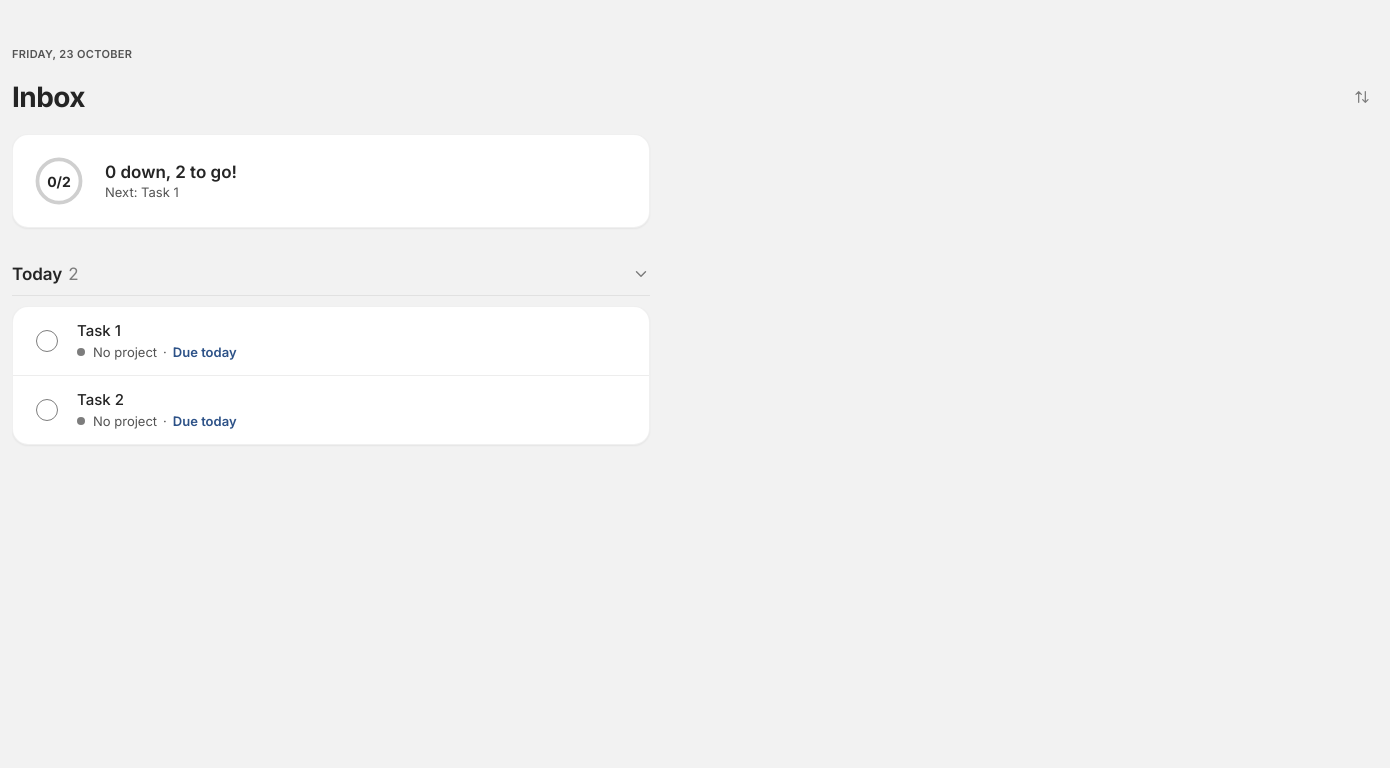
Inbox screen › ticking a task moves it to Completed and updates progress (LV §2.1, TK §2.1)
Expected: the link "Task 1 No project · Due today" is shown, left=77, top=321, right=236, bottom=360
Click the checkbox named "Complete Task 1" at {"x": 47, "y": 341}, box left=25, top=319, right=69, bottom=363
Wait 700 ms
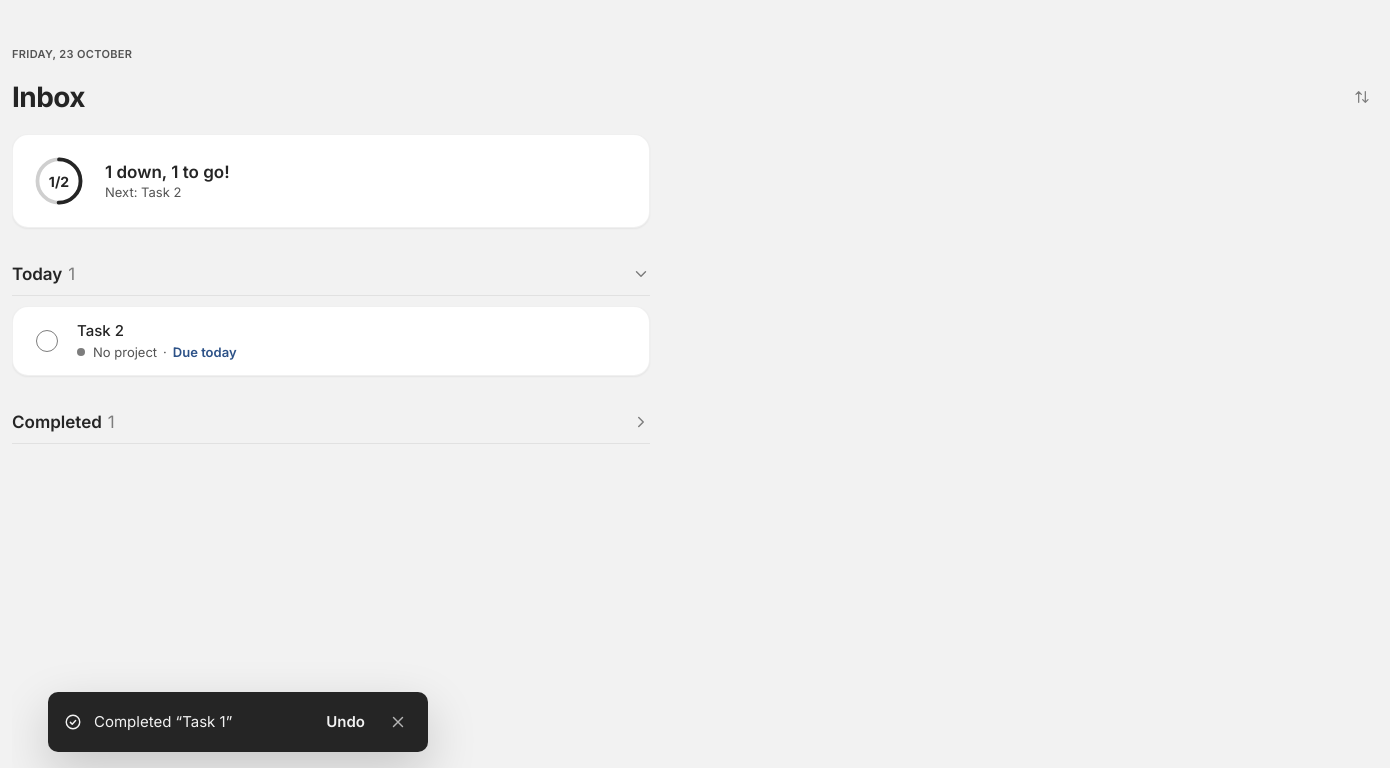
Now the button named "Completed, 1 task" is shown, box left=12, top=400, right=650, bottom=444
